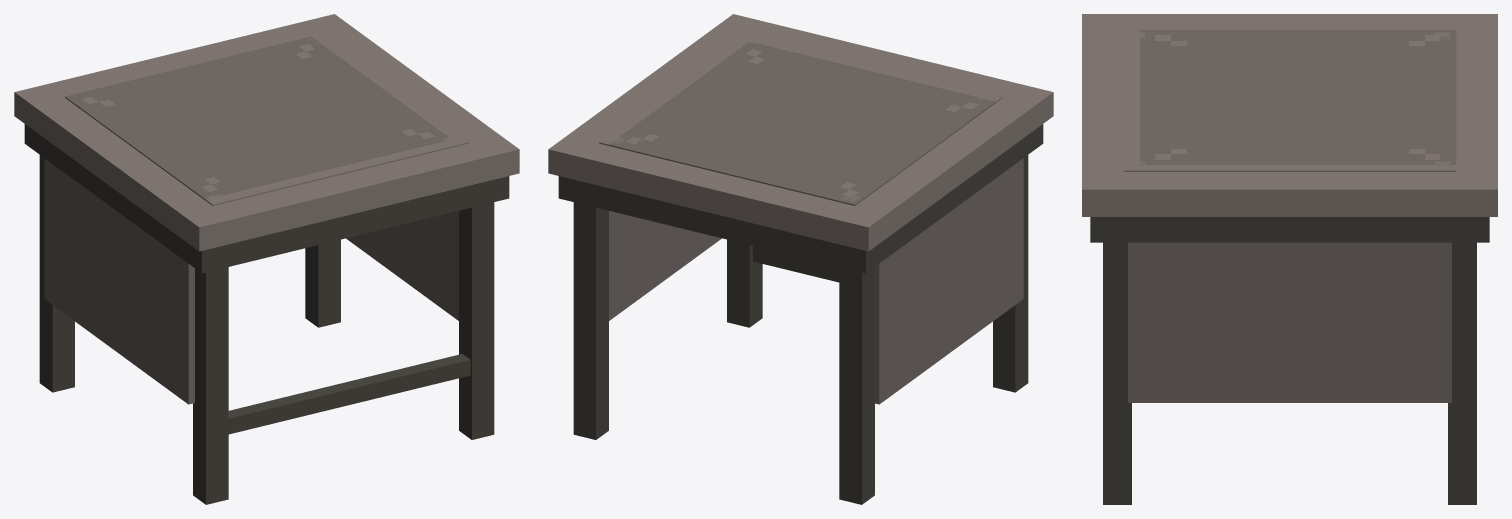
The model's file is CMU3DInheritedStructureRMCTablePrisonBeigeCloud.glb.
The picture shows the model from 3 angles, left to right: view 1: azimuth 30°, elevation 25°; view 2: azimuth 150°, elevation 25°; view 3: azimuth 270°, elevation 25°; orthographic projection. The views are drawn at different scales.
Parts seen in each view (by area): view 1: beige original top inset, tabletop surface 05, source desk side panel -1, table underframe 04, table leg 02, table leg 00, source desk side panel 1, front lower stretcher 14, table leg 01, table leg 03, table side rolled edge 07, table end rolled edge 08 (+2 smaller); view 2: beige original top inset, tabletop surface 05, source desk side panel -1, table underframe 04, table leg 03, table leg 01, source desk side panel 1, table leg 00, table leg 02, front lower stretcher 14, table end rolled edge 09, table end rolled edge 08 (+2 smaller); view 3: source desk side panel 1, beige original top inset, tabletop surface 05, table underframe 04, table leg 02, table leg 03, table side rolled edge 06, table end rolled edge 09, table end rolled edge 08.
Part boxes in pixels (x1=…): beige original top inset: x1=65, y1=34, x2=468, y2=205; tabletop surface 05: x1=14, y1=14, x2=519, y2=251; source desk side panel -1: x1=44, y1=158, x2=194, y2=404; table underframe 04: x1=24, y1=124, x2=509, y2=273; table leg 02: x1=459, y1=202, x2=494, y2=439; table leg 00: x1=193, y1=267, x2=228, y2=504; source desk side panel 1: x1=346, y1=211, x2=458, y2=320; front lower stretcher 14: x1=228, y1=354, x2=470, y2=434; table leg 01: x1=39, y1=155, x2=74, y2=392; table leg 03: x1=305, y1=239, x2=340, y2=327; table side rolled edge 07: x1=325, y1=15, x2=518, y2=150; table end rolled edge 08: x1=204, y1=147, x2=505, y2=224; beige original top inset: x1=599, y1=34, x2=1002, y2=205; tabletop surface 05: x1=548, y1=14, x2=1053, y2=251; source desk side panel -1: x1=873, y1=158, x2=1023, y2=404; table underframe 04: x1=558, y1=124, x2=1043, y2=273; table leg 03: x1=573, y1=202, x2=608, y2=439; table leg 01: x1=839, y1=267, x2=874, y2=504; source desk side panel 1: x1=609, y1=211, x2=721, y2=320; table leg 00: x1=993, y1=155, x2=1028, y2=392; table leg 02: x1=727, y1=239, x2=762, y2=327; front lower stretcher 14: x1=753, y1=246, x2=839, y2=282; table end rolled edge 09: x1=564, y1=147, x2=863, y2=224; table end rolled edge 08: x1=739, y1=16, x2=1042, y2=90; source desk side panel 1: x1=1128, y1=242, x2=1451, y2=402; beige original top inset: x1=1123, y1=30, x2=1456, y2=171; tabletop surface 05: x1=1082, y1=14, x2=1497, y2=216; table underframe 04: x1=1090, y1=217, x2=1489, y2=242; table leg 02: x1=1103, y1=242, x2=1131, y2=504; table leg 03: x1=1448, y1=242, x2=1476, y2=504; table side rolled edge 06: x1=1082, y1=14, x2=1496, y2=19; table end rolled edge 09: x1=1485, y1=19, x2=1497, y2=184; table end rolled edge 08: x1=1082, y1=19, x2=1094, y2=178.
Size of the model in its own units: 1 by 0.864 by 1.
4 materials, 1 textured.
